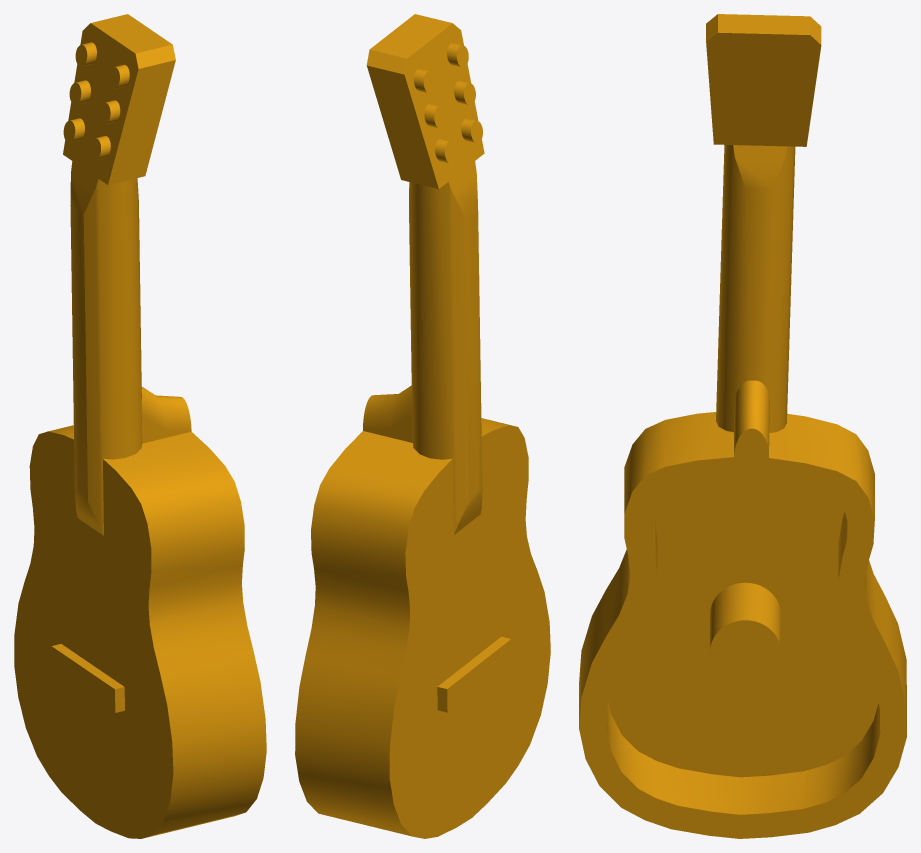
The model's file is minfig_utensil_guiter_acoustic_with_black_neck_and_silver_strin.obj.
The picture shows the model from 3 angles, left to right: view 1: azimuth 30°, elevation 25°; view 2: azimuth 150°, elevation 25°; view 3: azimuth 270°, elevation 25°; orthographic projection. The views are drawn at different scales.
Visible parts, largest first — view 1: minfig_utensil_guiter_acoustic_with_black_neck_and_silver_strin; view 2: minfig_utensil_guiter_acoustic_with_black_neck_and_silver_strin; view 3: minfig_utensil_guiter_acoustic_with_black_neck_and_silver_strin.
Part boxes in pixels (x1,y1,x2,y2): minfig_utensil_guiter_acoustic_with_black_neck_and_silver_strin: (14,14,266,838); minfig_utensil_guiter_acoustic_with_black_neck_and_silver_strin: (295,14,550,838); minfig_utensil_guiter_acoustic_with_black_neck_and_silver_strin: (579,14,906,838).
Size of the model in its own units: 14 by 98.55 by 36.93.
